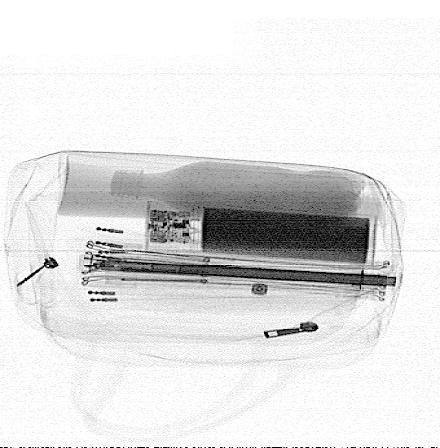Powerbank: (146, 200, 378, 268)
